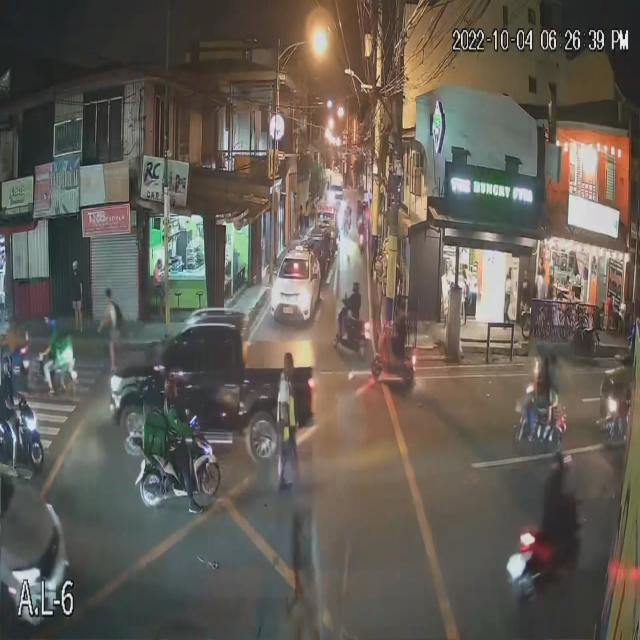Full-Faced: (550, 449, 574, 486), (160, 374, 180, 404), (42, 312, 57, 338), (348, 277, 363, 296)
